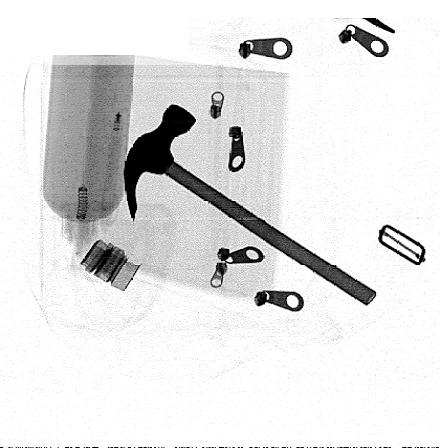Hammer: (123, 103, 378, 305)
